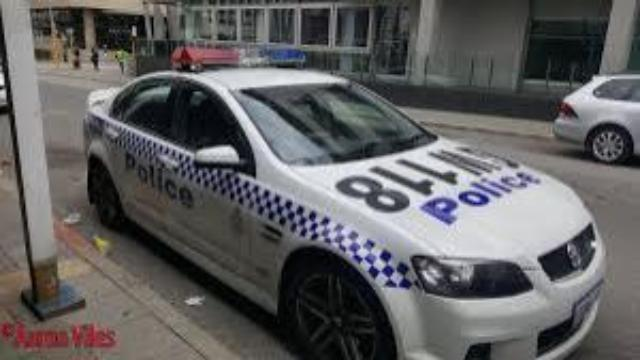police: (83, 44, 608, 360)
